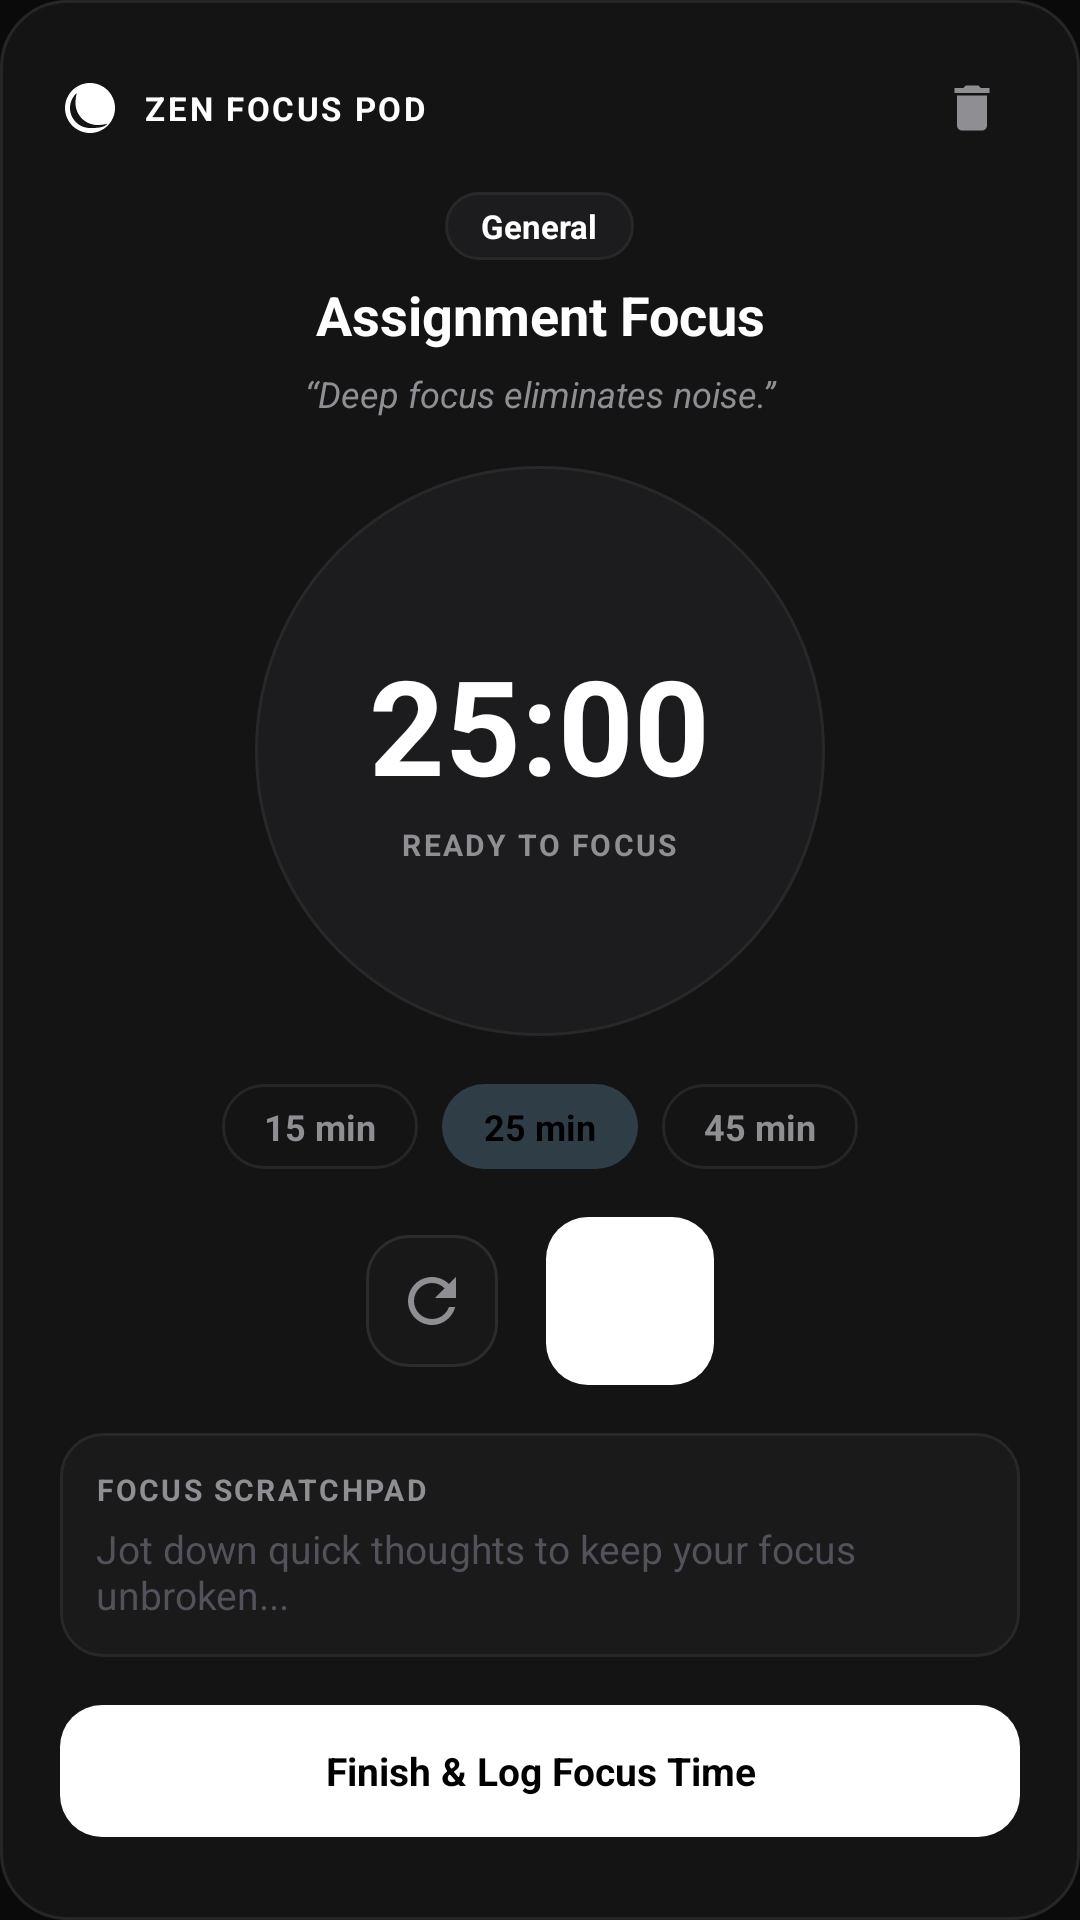

Locate icon controls on the screen. Image size 1080×1920, boxes as (x1, y1, x2, y2).
Reset timer: (408, 1277, 456, 1325)
